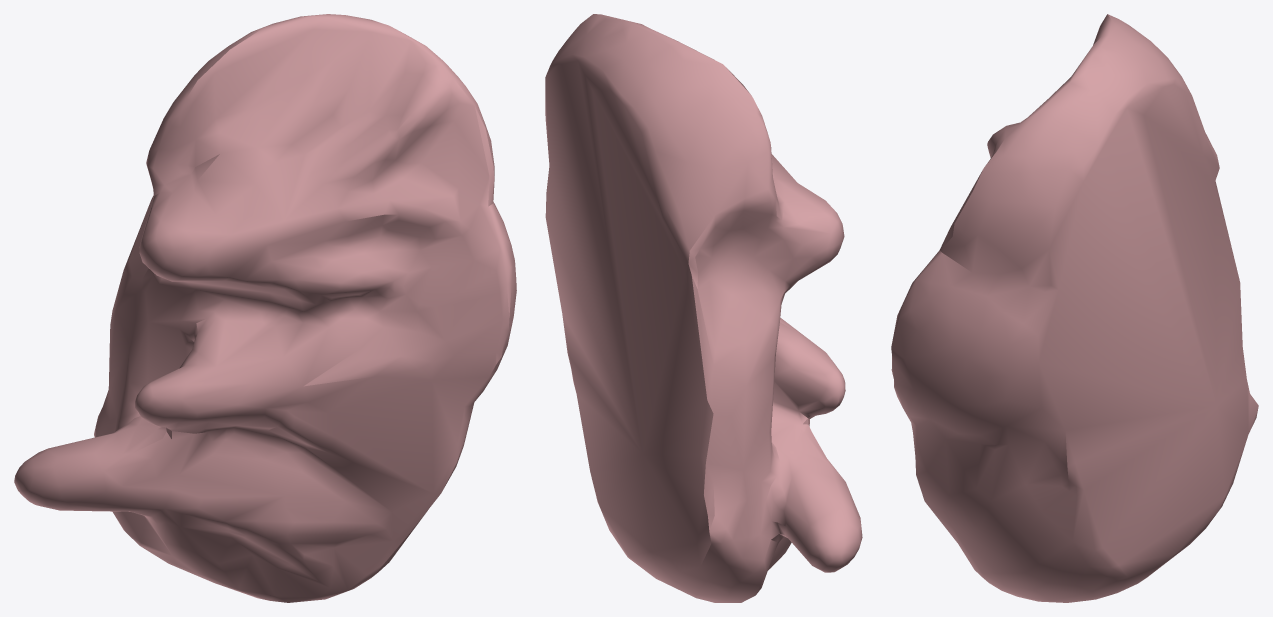
Rendered from fma7262.glb.
The picture shows the model from 3 angles, left to right: view 1: azimuth 30°, elevation 25°; view 2: azimuth 150°, elevation 25°; view 3: azimuth 270°, elevation 25°; orthographic projection. The views are drawn at different scales.
Visible parts, largest first — view 1: FMA7262; view 2: FMA7262; view 3: FMA7262.
Boxes of the visible parts, <box> form: FMA7262: <box>14,14,516,602</box>; FMA7262: <box>545,14,862,602</box>; FMA7262: <box>891,14,1258,602</box>.
Size of the model in its own units: 0.0195 by 0.027 by 0.0155.
